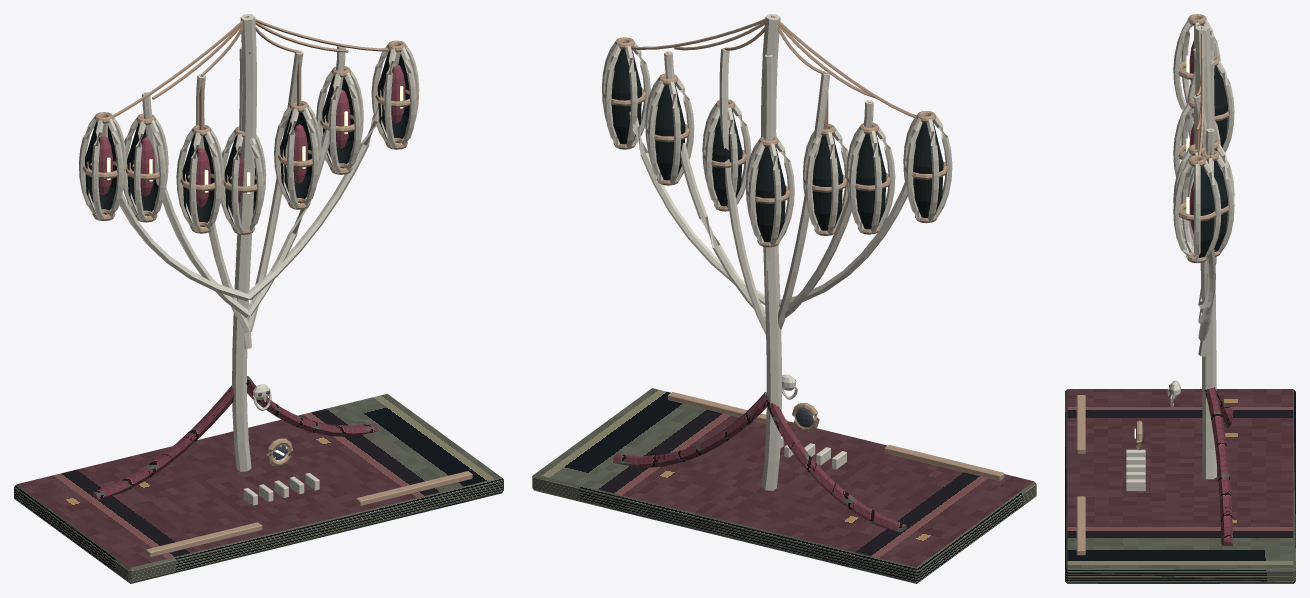
Rendered from nursery_seven_vessels.glb.
3 renders of one model, left to right at view 1: azimuth 30°, elevation 25°; view 2: azimuth 150°, elevation 25°; view 3: azimuth 270°, elevation 25°, orthographic. The views are drawn at different scales.
Parts seen in each view (by area): view 1: nursery_seven_vessels_petrol, nursery_seven_vessels_warm, nursery_seven_vessels_worn, nursery_seven_vessels_bruised; view 2: nursery_seven_vessels_petrol, nursery_seven_vessels_warm, nursery_seven_vessels_worn, nursery_seven_vessels_bruised; view 3: nursery_seven_vessels_petrol, nursery_seven_vessels_warm, nursery_seven_vessels_worn, nursery_seven_vessels_bruised.
Part boxes in pixels (box(x1,y1,x2,y2)): nursery_seven_vessels_petrol: box(14, 51, 503, 583); nursery_seven_vessels_warm: box(79, 14, 419, 505); nursery_seven_vessels_worn: box(82, 16, 472, 557); nursery_seven_vessels_bruised: box(92, 64, 405, 499); nursery_seven_vessels_petrol: box(532, 49, 1036, 583); nursery_seven_vessels_warm: box(602, 14, 952, 490); nursery_seven_vessels_worn: box(603, 15, 1004, 480); nursery_seven_vessels_bruised: box(613, 392, 907, 532); nursery_seven_vessels_petrol: box(1065, 25, 1295, 583); nursery_seven_vessels_warm: box(1126, 19, 1234, 491); nursery_seven_vessels_worn: box(1076, 14, 1229, 555); nursery_seven_vessels_bruised: box(1189, 40, 1233, 545).
Size of the model in its own units: 5.85 by 7.04 by 3.15.
Materials: 6 (2 with a texture image).
